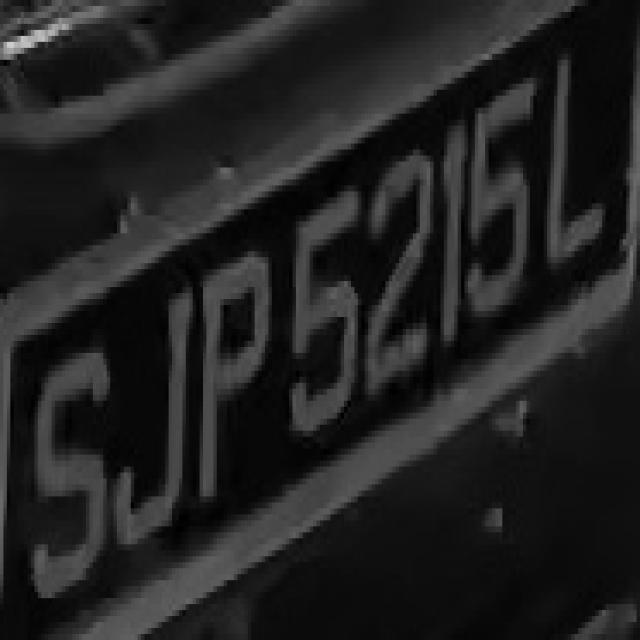1: (430, 120, 468, 370)
2: (365, 149, 437, 389)
5: (279, 186, 361, 437), (464, 96, 537, 311)
J: (103, 281, 196, 568)
L: (540, 66, 616, 263)
P: (190, 245, 268, 520)
S: (24, 347, 121, 610)
